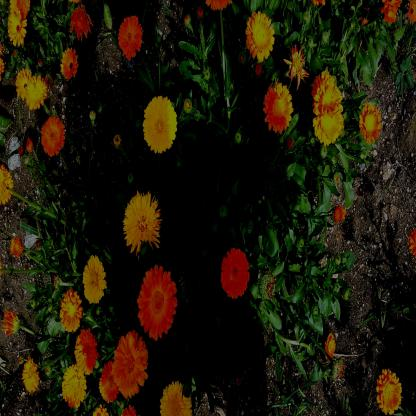marigold: (137, 270, 174, 339), (113, 333, 148, 394), (124, 196, 160, 249), (144, 98, 177, 150), (262, 81, 292, 129), (222, 247, 250, 298), (245, 12, 274, 57), (311, 109, 345, 144), (160, 381, 192, 416), (377, 366, 401, 412), (313, 74, 340, 113), (40, 115, 66, 155), (83, 255, 105, 302), (117, 19, 142, 56), (63, 366, 86, 406), (76, 330, 97, 372), (60, 290, 81, 328), (360, 104, 380, 140), (100, 365, 118, 401), (8, 17, 29, 45), (28, 77, 48, 106), (22, 359, 39, 391), (72, 8, 90, 38), (60, 49, 78, 78), (0, 167, 13, 206), (15, 67, 29, 97), (10, 0, 30, 17)
